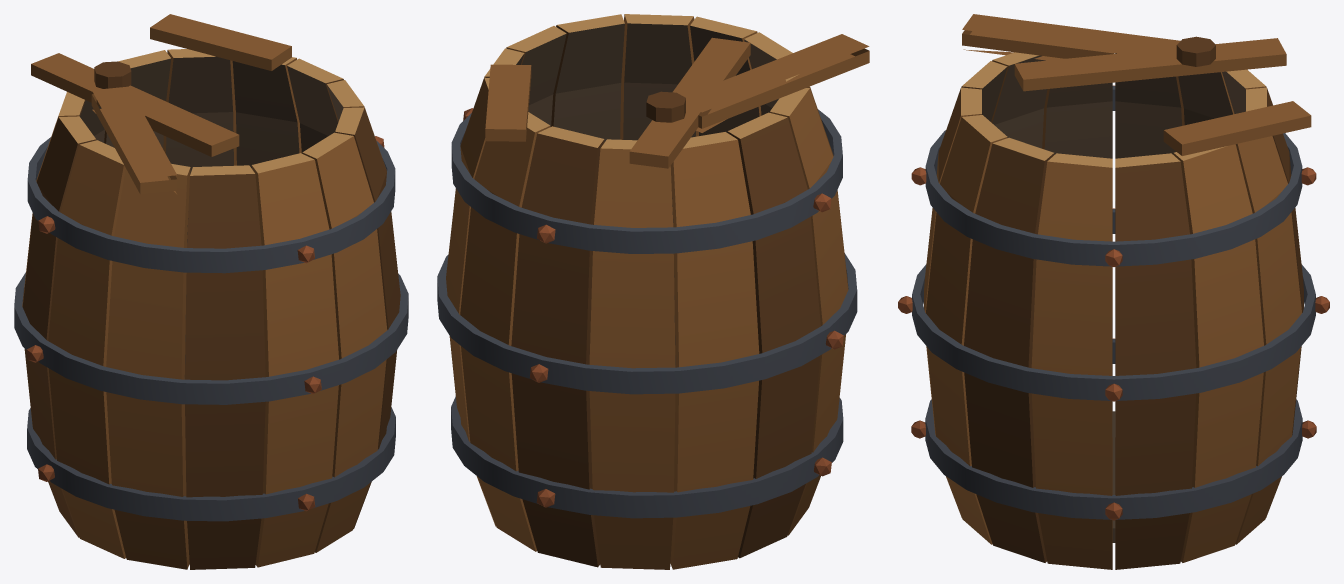
Rendered from barrel.glb.
The picture shows the model from 3 angles, left to right: view 1: azimuth 30°, elevation 25°; view 2: azimuth 150°, elevation 25°; view 3: azimuth 270°, elevation 25°; orthographic projection. The views are drawn at different scales.
Visible parts, largest first — view 1: barrel; view 2: barrel; view 3: barrel.
Boxes of the visible parts, left/top/right/bottom form: barrel: left=14, top=14, right=408, bottom=569; barrel: left=437, top=14, right=869, bottom=569; barrel: left=898, top=14, right=1329, bottom=569.
Bounding box in the file's own units: 0.9454 × 1.04 × 0.9434.
